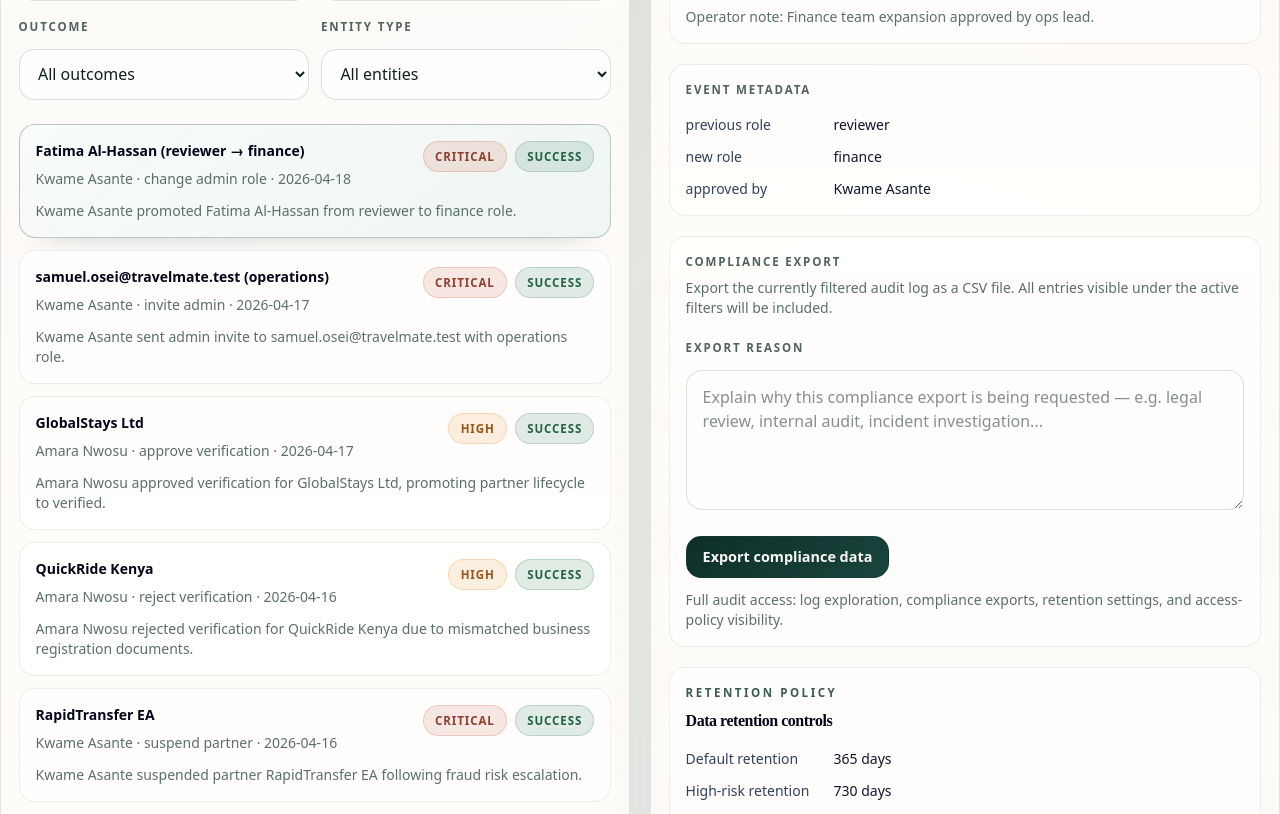
AuditComplianceWorkspace › exports compliance data and shows export record
(page scrolled)
Replace the text in the text box labelled "Export reason" with "Exporting full audit log for Q1 internal compliance review process." at (965, 440), box [686,370,1244,510]
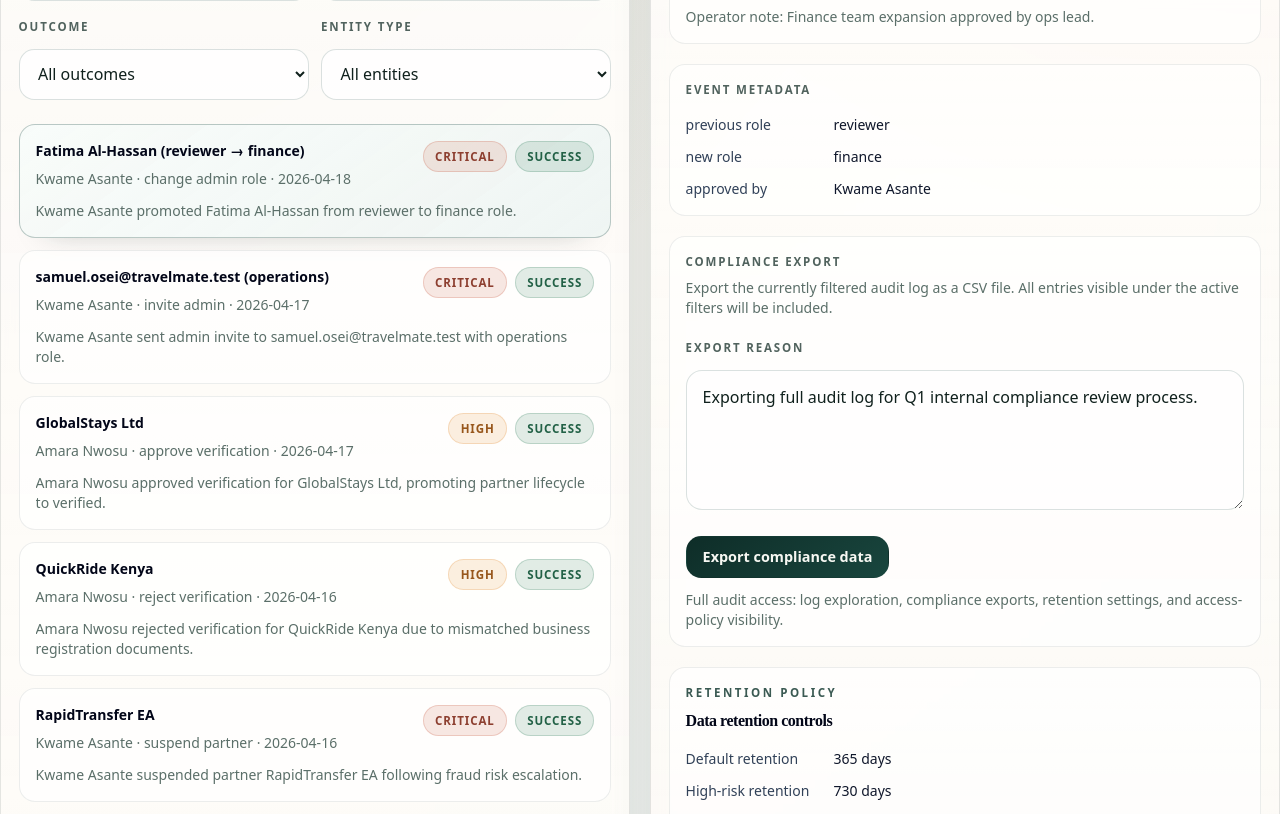
Click the button labelled "Export compliance data".
click(788, 557)  # box [686,536,889,578]
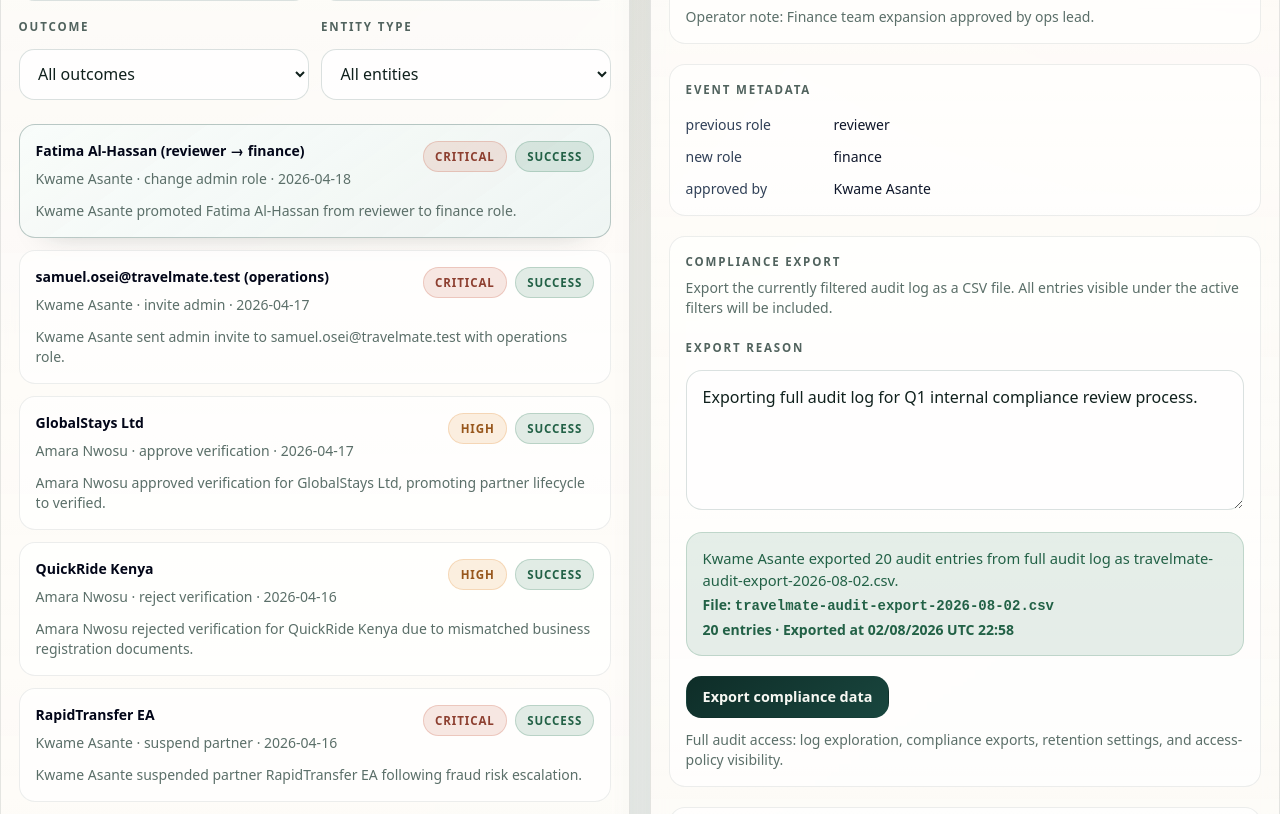
Check: the text "travelmate-audit-export-" is shown, box [703,548,1213,590]
